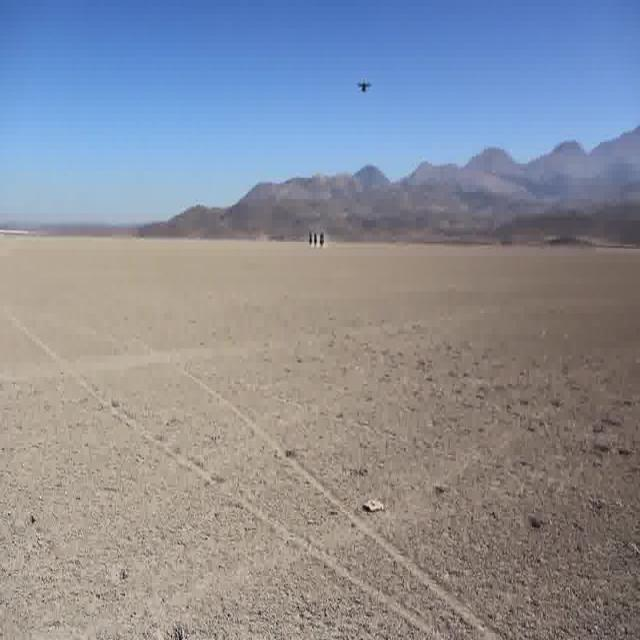drone: (356, 75, 372, 96)
